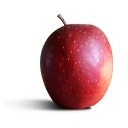apple: (41, 13, 113, 110)
